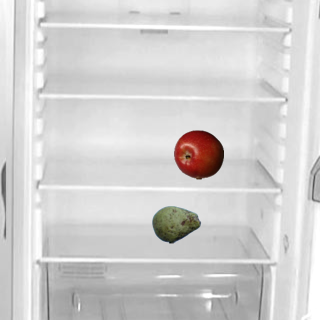Apple Braeburn: (173, 129, 223, 179)
Pear Stone: (151, 199, 201, 249)
